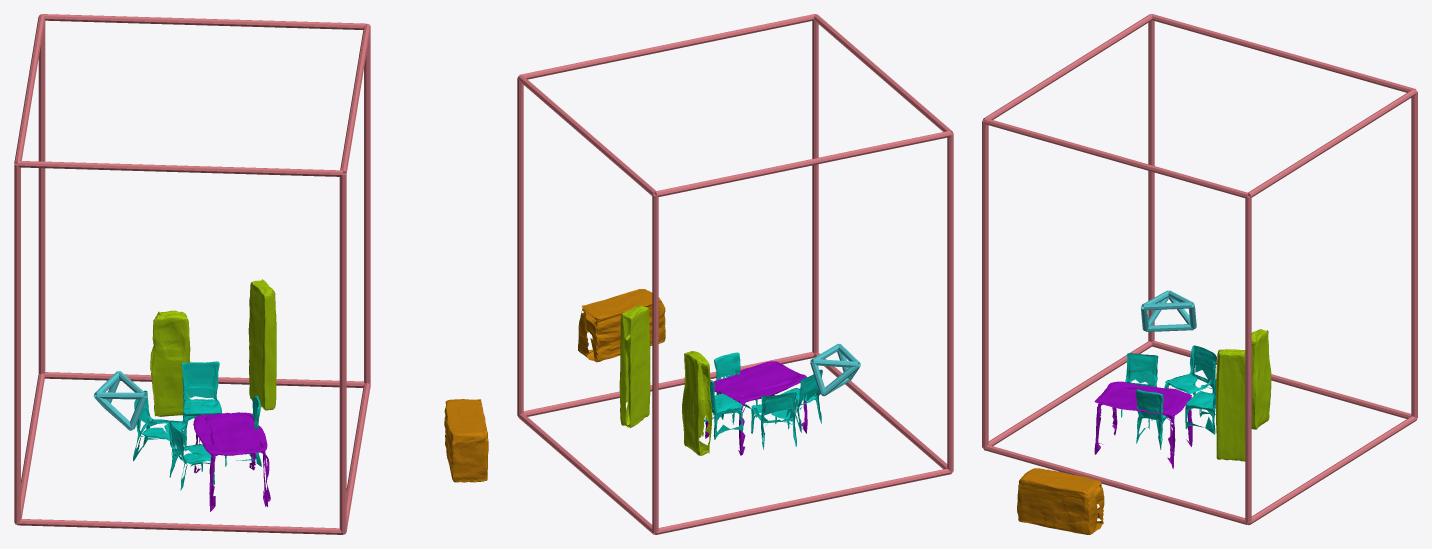
3 renders of one model, left to right at view 1: azimuth 30°, elevation 25°; view 2: azimuth 150°, elevation 25°; view 3: azimuth 270°, elevation 25°, orthographic. The views are drawn at different scales.
Parts seen in each view (by area): view 1: world; view 2: world; view 3: world.
Part boxes in pixels (bbox=[...]): world: bbox=[14, 14, 488, 534]; world: bbox=[517, 14, 953, 534]; world: bbox=[982, 14, 1417, 534].
Size of the model in its own units: 7.07 by 5.92 by 6.77.
